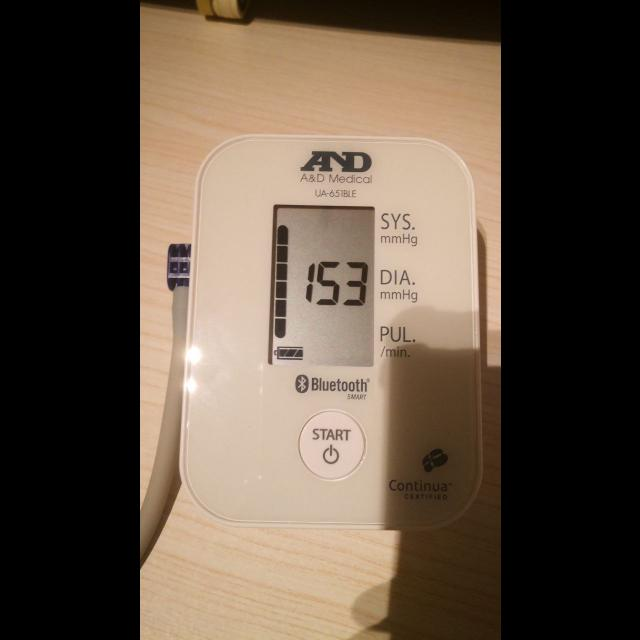Blood-Pressure-Monitor: (178, 132, 484, 526)
